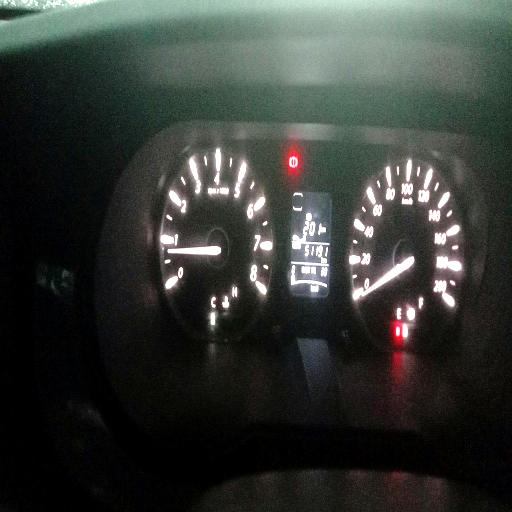brake_system_fault: (289, 156, 298, 168)
tachometer: (158, 139, 276, 335)
